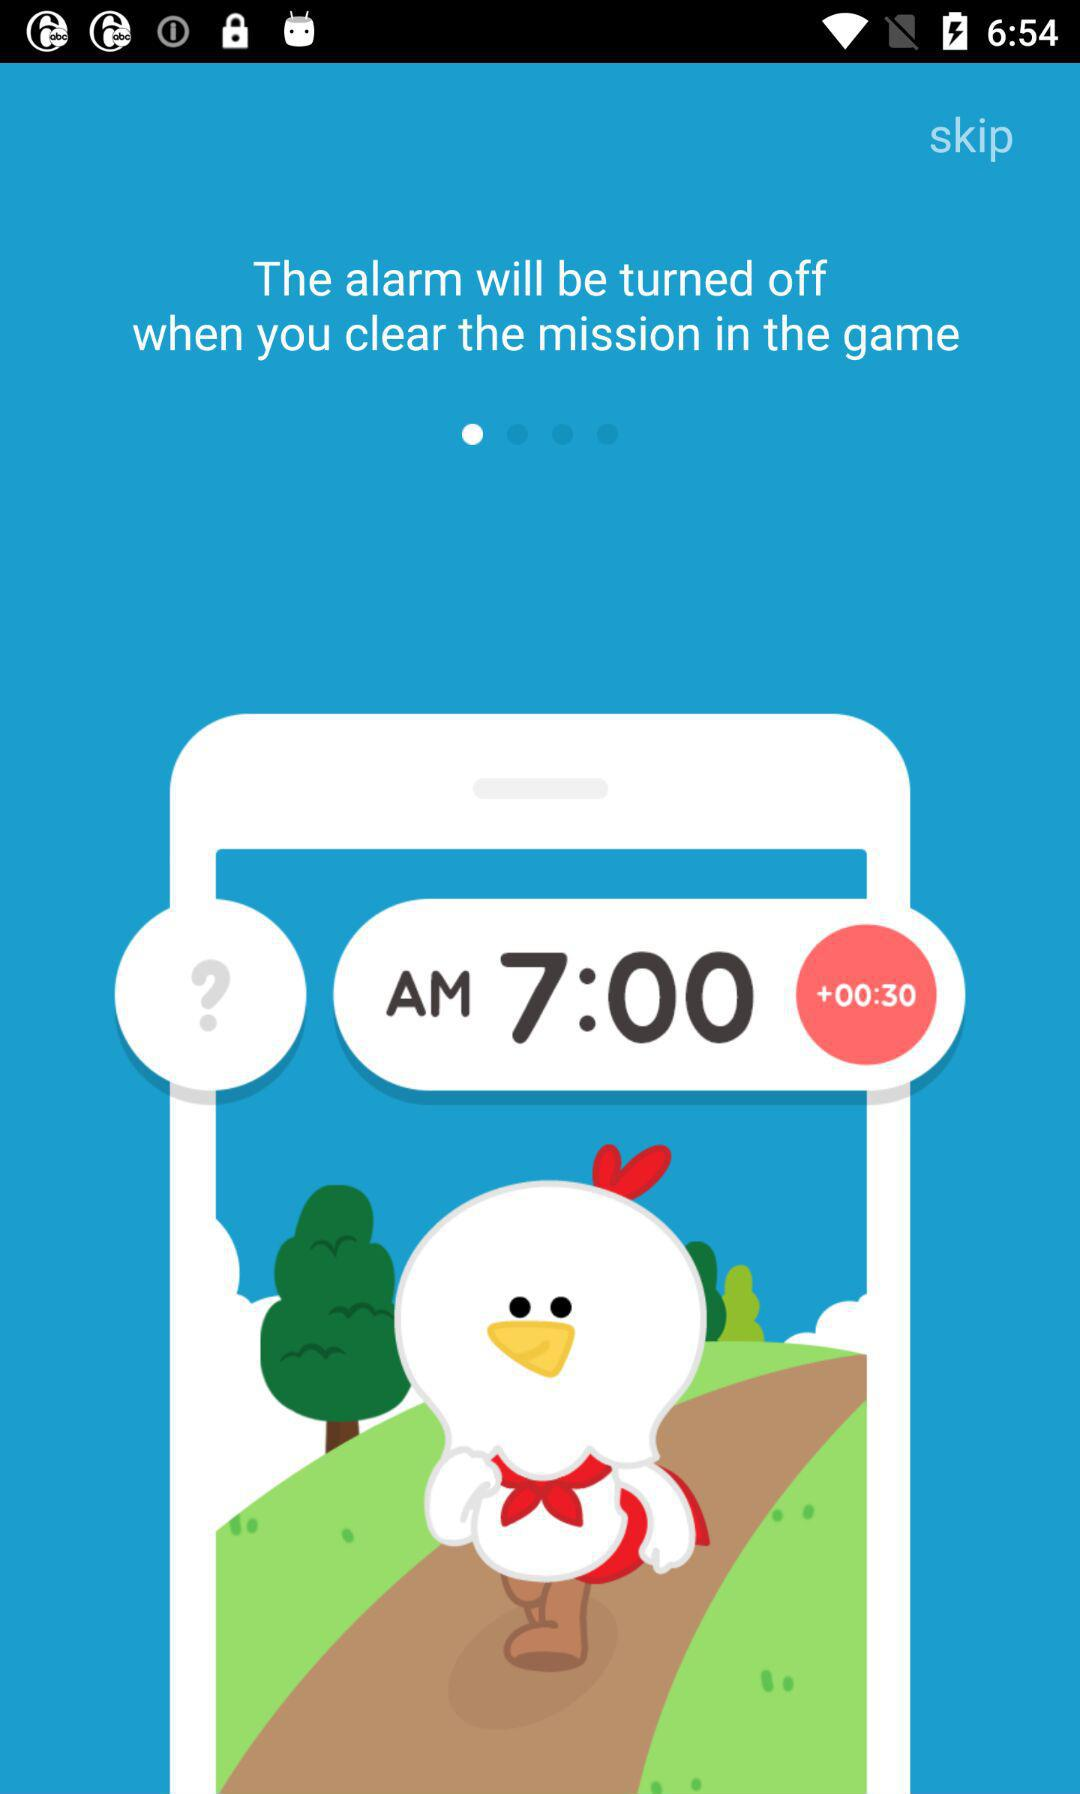Image: (111, 712, 969, 1794)
PageIndicator: (460, 423, 621, 447)
Text: (132, 259, 960, 361), (930, 115, 1013, 165)
UpperTaskBar: (1, 1, 1080, 64)
